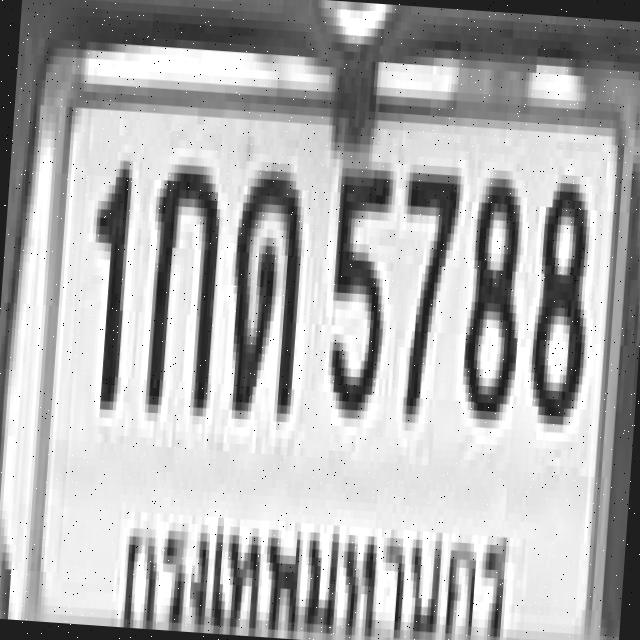1: (81, 150, 130, 402)
10GorGai: (142, 154, 220, 408)
29DorDek: (222, 164, 303, 410)
5: (322, 159, 391, 411)
7: (389, 164, 458, 416)
8: (458, 168, 526, 412), (524, 173, 592, 417)
Bangkok: (111, 486, 522, 640)
